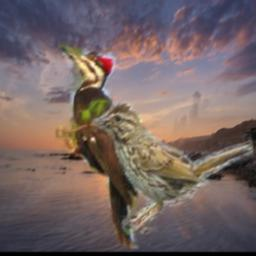Sparrow: (88, 99, 253, 235)
Woodpecker: (57, 42, 140, 249)
